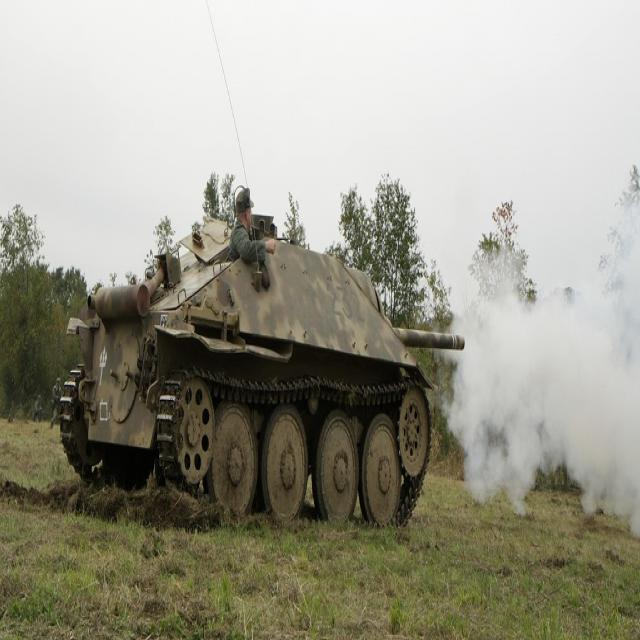tank: (57, 1, 465, 528)
